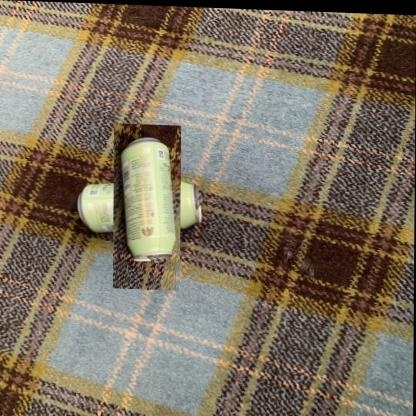trash: (121, 138, 175, 260), (77, 183, 113, 232), (180, 182, 201, 228)
